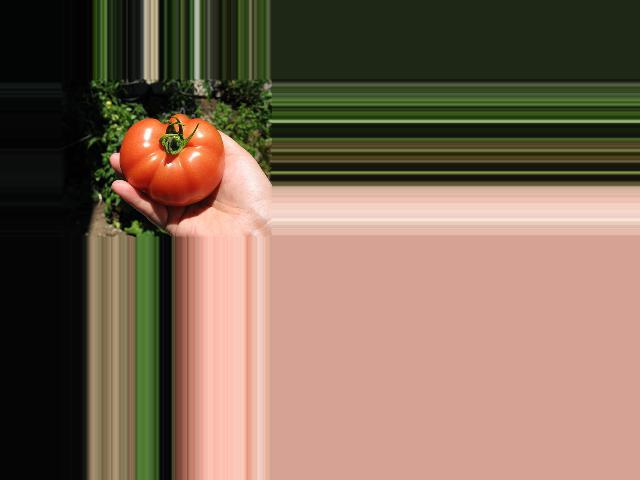tomato: (119, 114, 223, 205)
